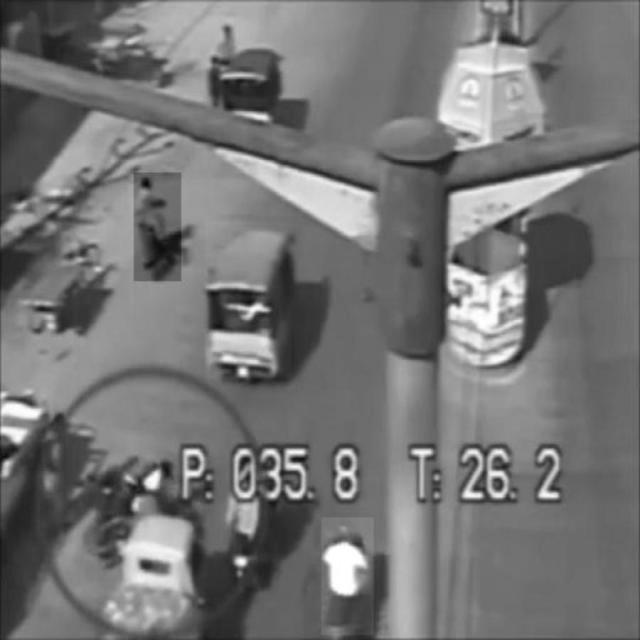vehicle: (205, 222, 291, 379), (110, 516, 193, 636), (322, 517, 374, 635), (134, 173, 181, 281)
